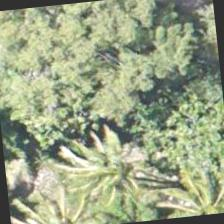Kelapa_Sawit: (78, 124, 177, 223), (159, 159, 223, 220)
